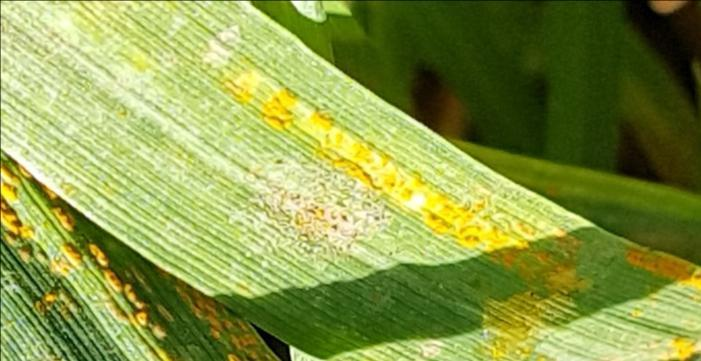Wheat: (291, 93, 605, 305), (0, 155, 181, 352)
